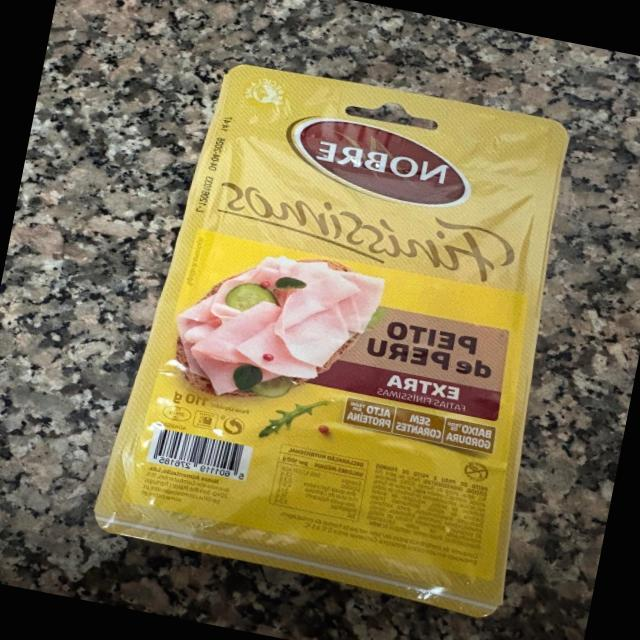good_package: (85, 48, 596, 621)
